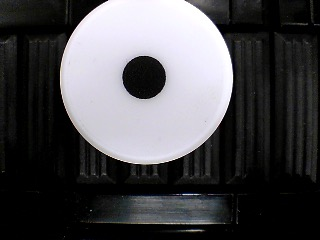BOHO: (59, 1, 234, 165)
